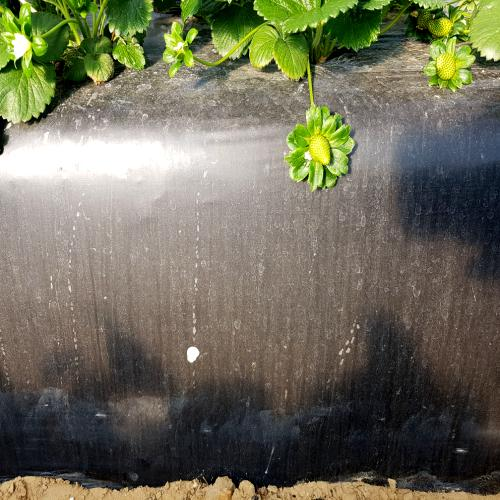unripe: (302, 122, 339, 182)
